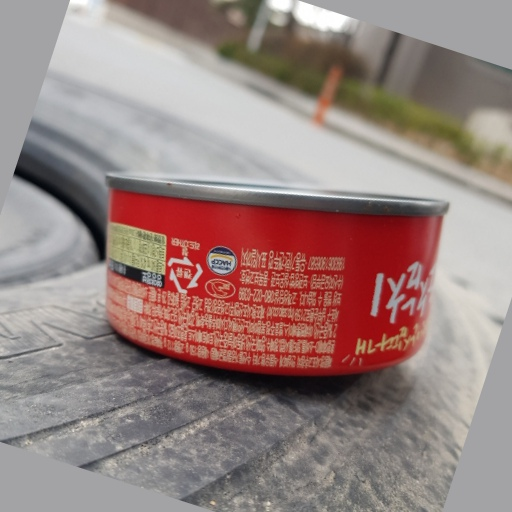Metal_1: (100, 165, 452, 375)
